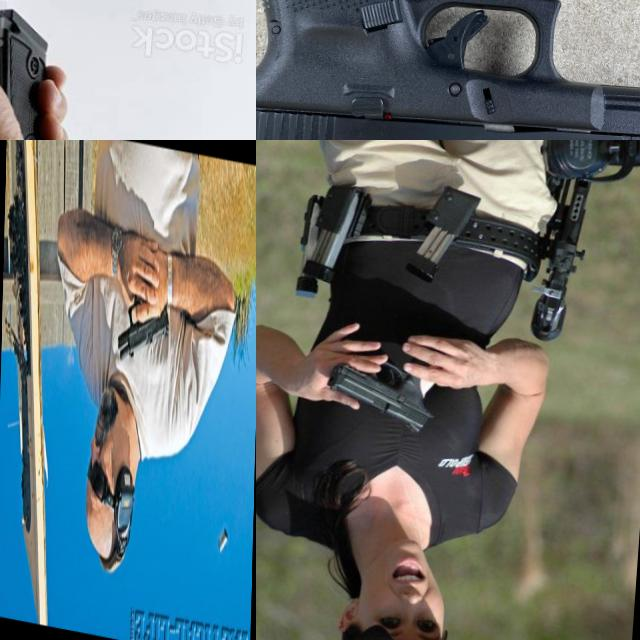handgun: (256, 0, 640, 140), (0, 0, 166, 140), (322, 342, 446, 437), (116, 263, 171, 371)
